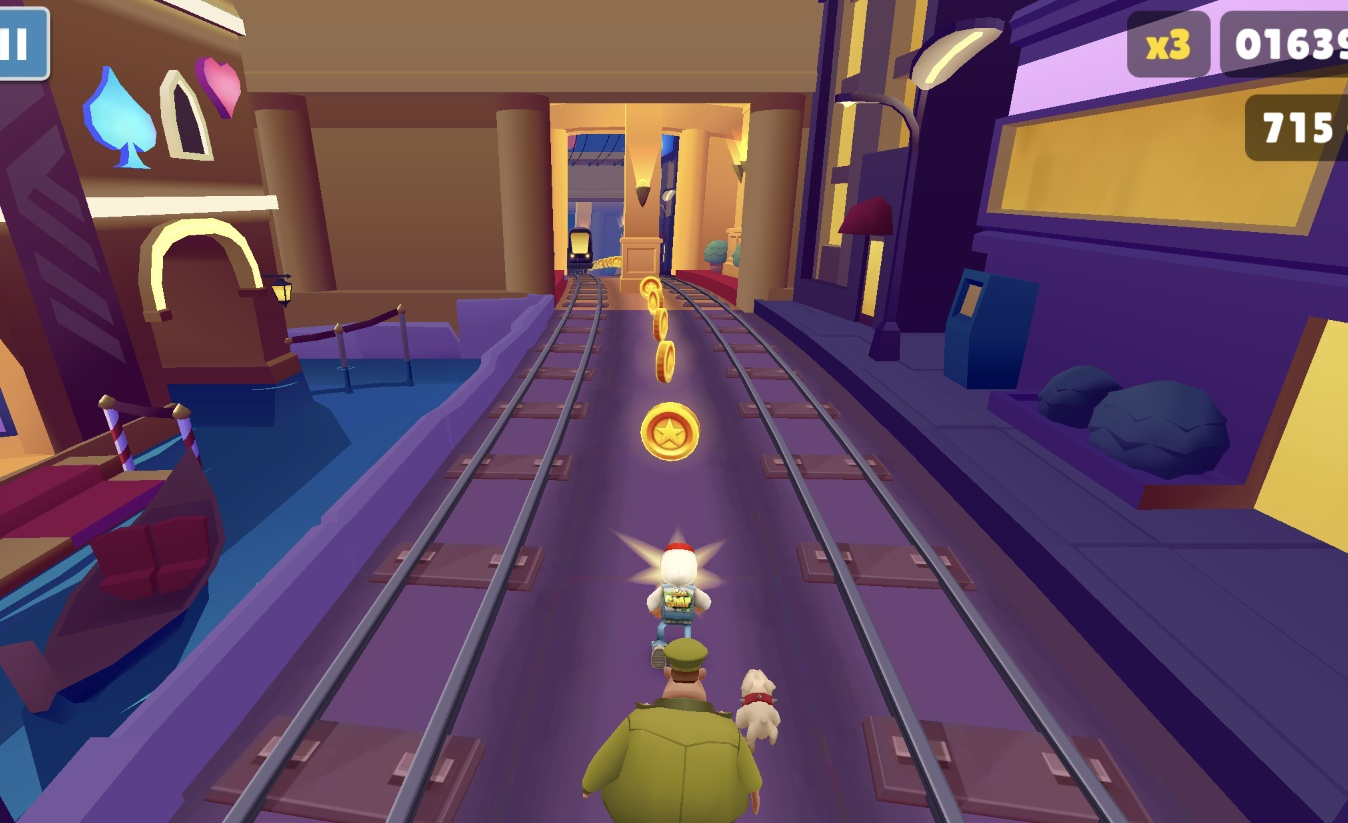pillar: (620, 103, 667, 303)
train: (566, 230, 590, 283)
